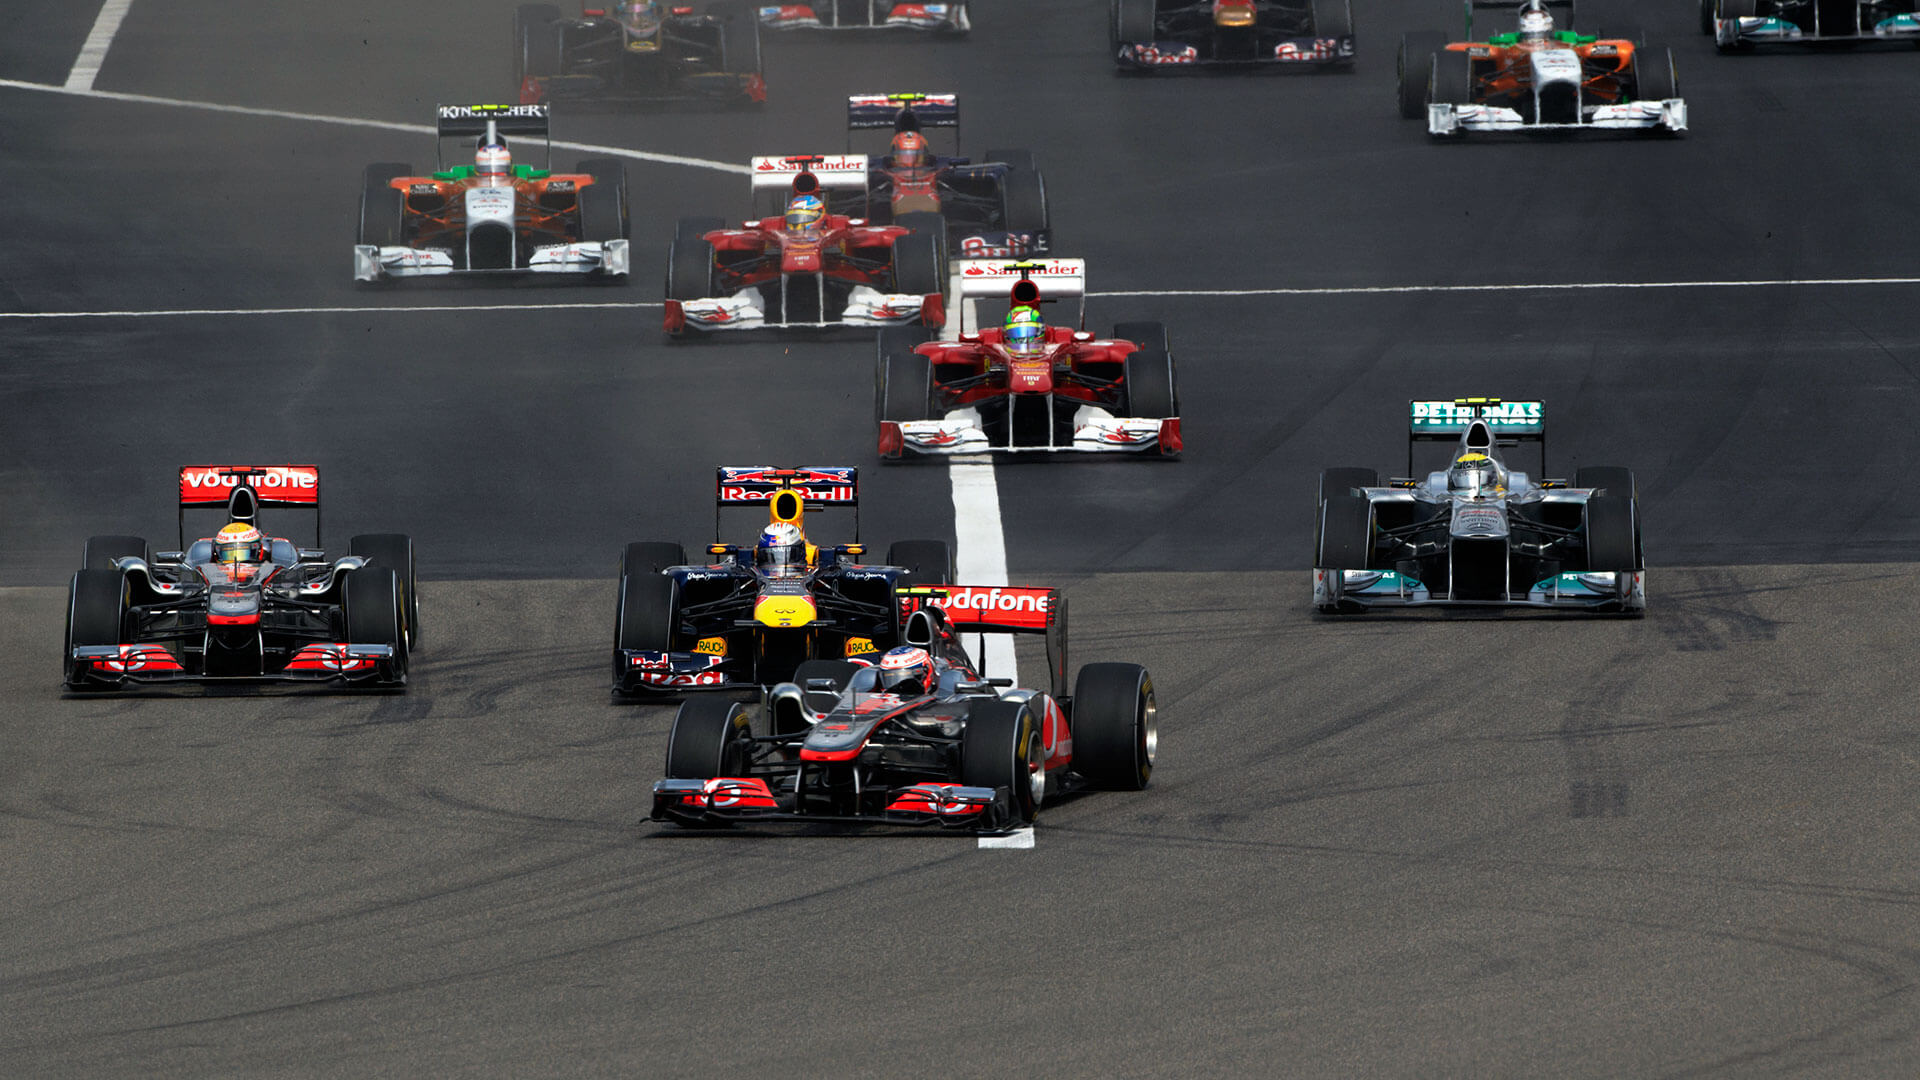f1_car: (625, 578, 1197, 884), (45, 444, 458, 738), (591, 443, 989, 724), (1290, 378, 1688, 647), (856, 253, 1201, 491), (637, 142, 959, 355), (334, 86, 644, 301), (775, 84, 1075, 260), (1371, 3, 1714, 152), (487, 1, 795, 119)
helmet: (866, 636, 953, 715), (200, 509, 277, 582), (744, 520, 818, 589), (1441, 444, 1519, 510), (993, 301, 1064, 369), (775, 189, 837, 251), (881, 120, 942, 175), (1513, 3, 1563, 55), (460, 145, 516, 189)
